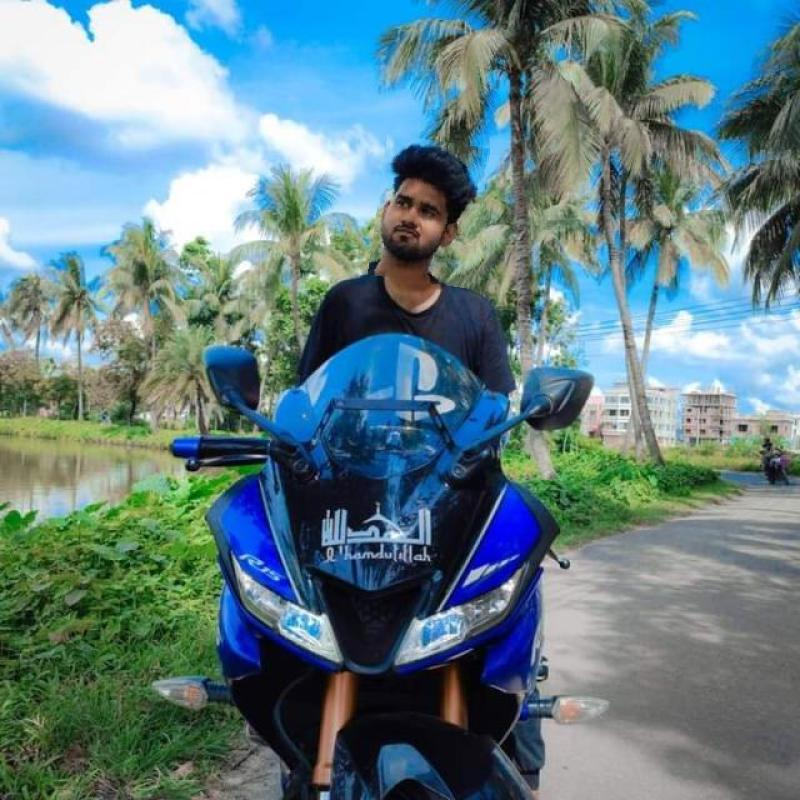nohelmet: (373, 138, 486, 286)
